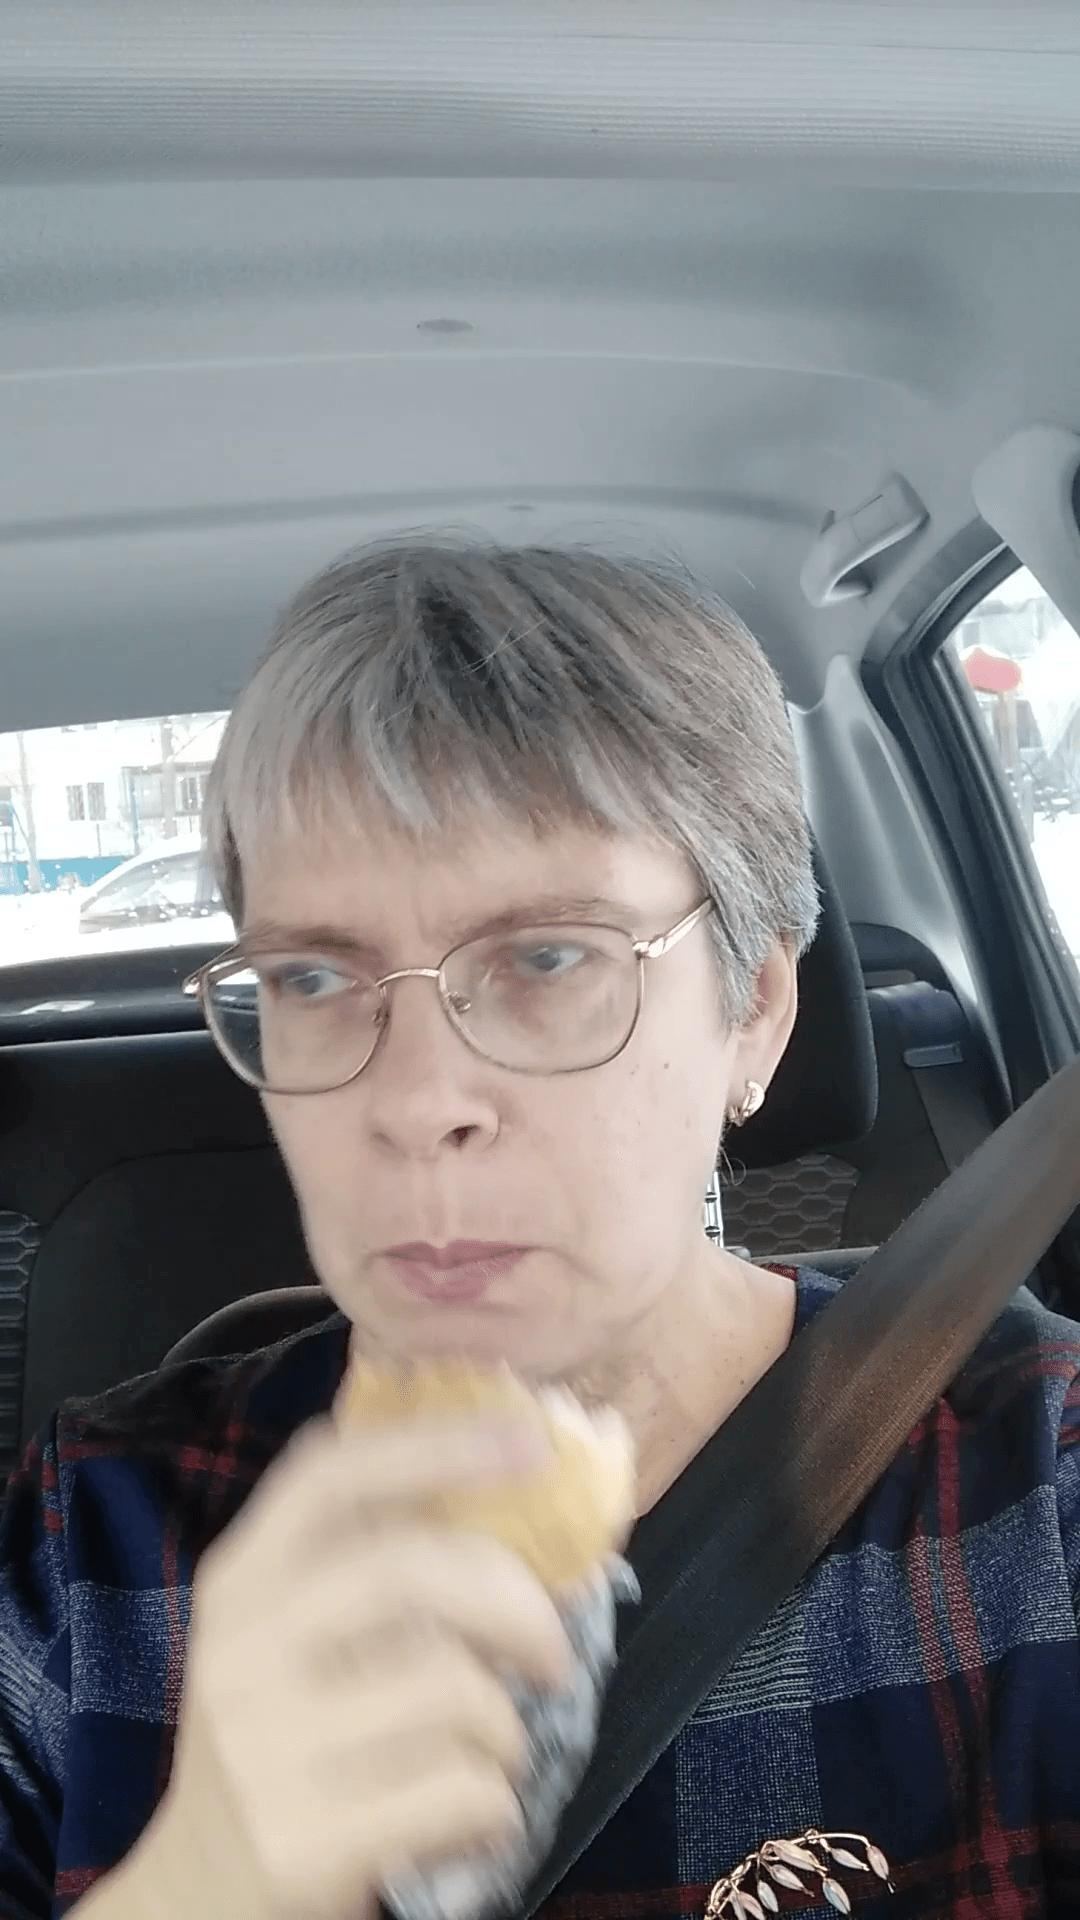Eating: (298, 1308, 649, 1920)
